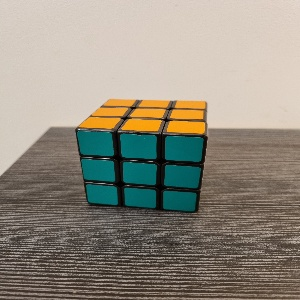cube: (75, 99, 208, 212)
